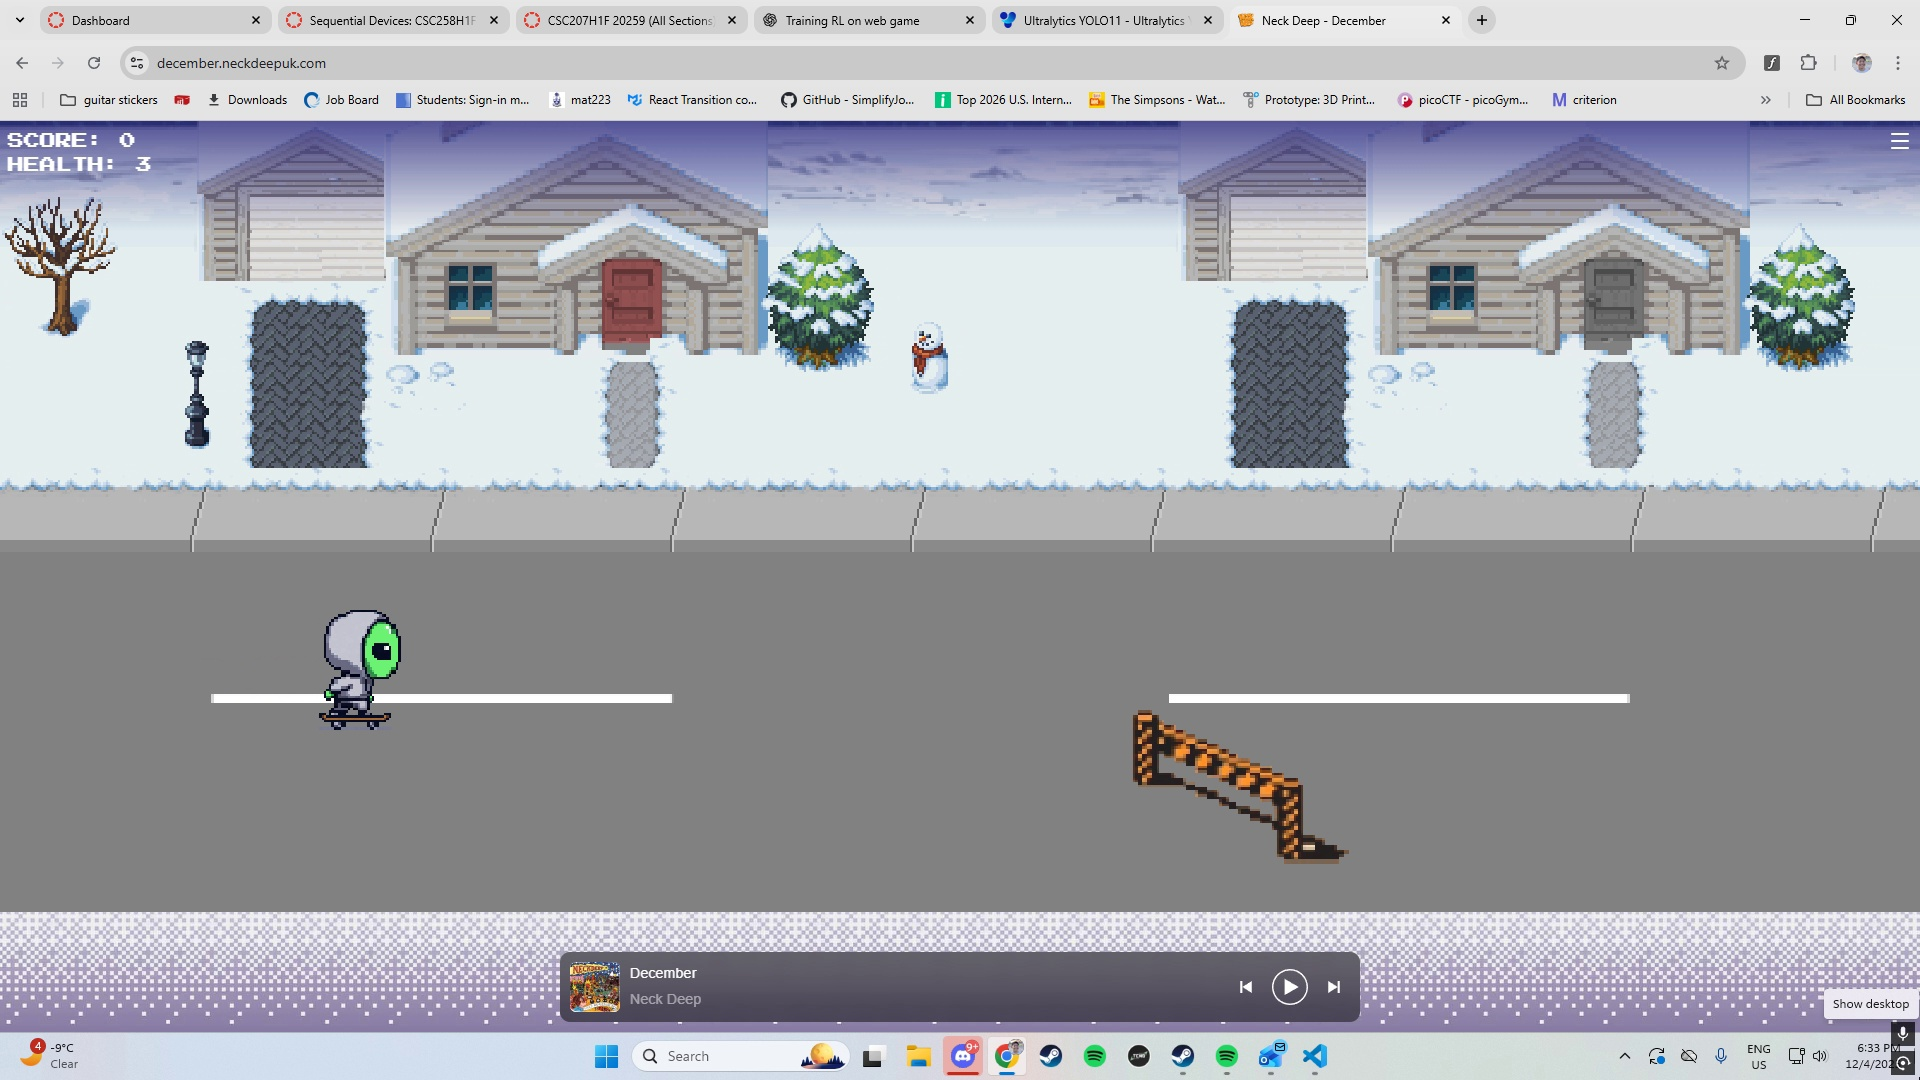Player: (297, 597, 423, 756)
RoadBlock: (1094, 689, 1376, 889)
